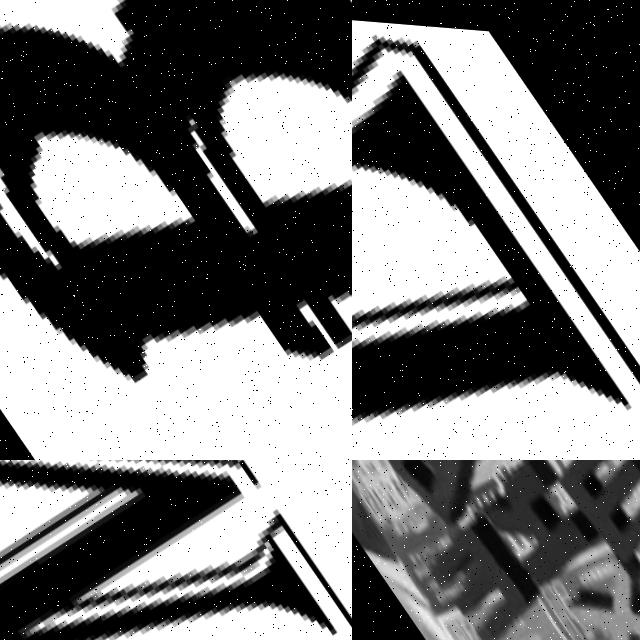K: (468, 460, 602, 596)
L: (352, 0, 640, 460)
M: (0, 460, 352, 640), (541, 460, 640, 566)
P: (362, 460, 501, 533)
W: (413, 506, 544, 640)
X: (554, 539, 640, 640)
